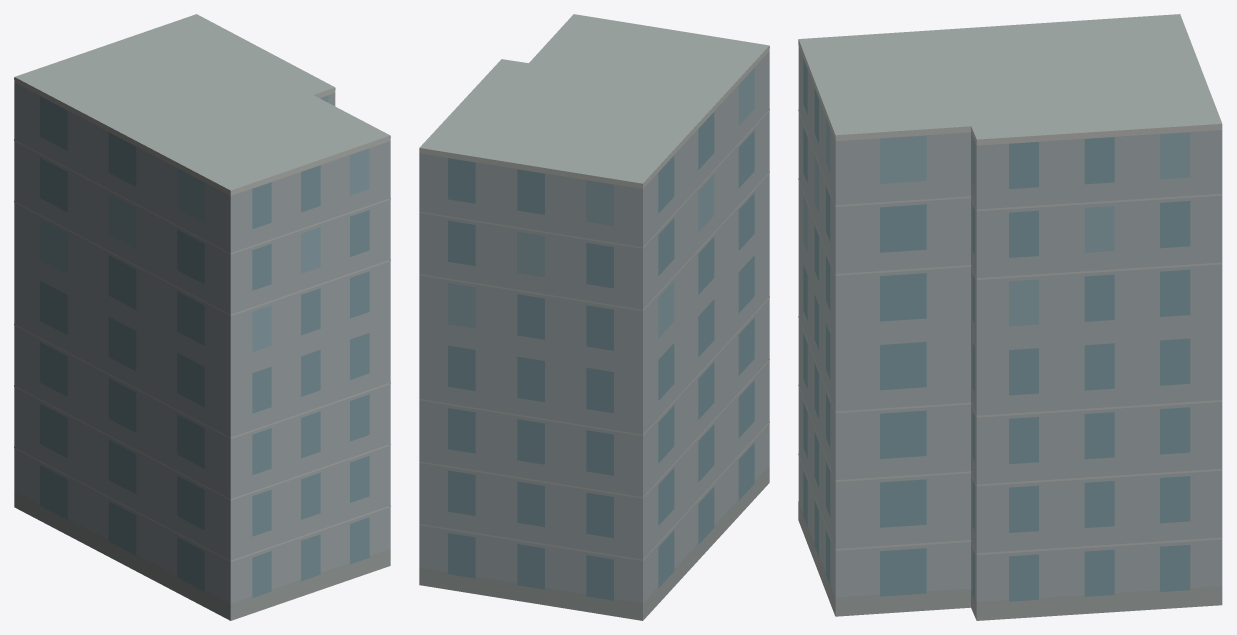
Rendered from survey-upis-32765751.glb.
3 views of the same model, side by side, from view 1: azimuth 30°, elevation 25°; view 2: azimuth 150°, elevation 25°; view 3: azimuth 270°, elevation 25° (orthographic). The views are drawn at different scales.
Parts seen in each view (by area): view 1: survey-upis-32765751.tmp; view 2: survey-upis-32765751.tmp; view 3: survey-upis-32765751.tmp.
Boxes of the visible parts, left/top/right/bottom form: survey-upis-32765751.tmp: left=14, top=14, right=390, bottom=620; survey-upis-32765751.tmp: left=419, top=14, right=769, bottom=620; survey-upis-32765751.tmp: left=798, top=14, right=1222, bottom=620.
Bounding box in the file's own units: 11.01 × 19.63 × 15.69.
